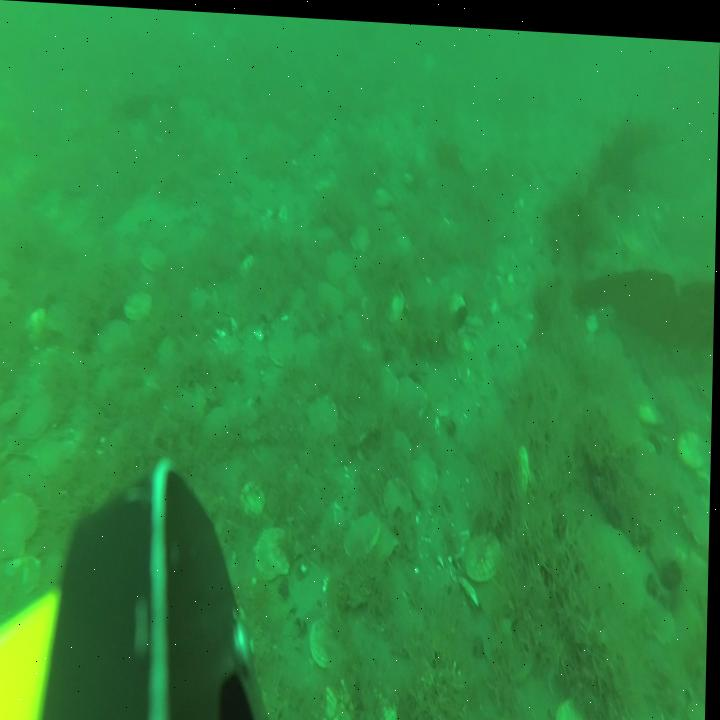scallop: (581, 508, 648, 616), (0, 496, 40, 555), (463, 524, 502, 579), (257, 528, 292, 582), (409, 447, 443, 502), (22, 395, 57, 446), (345, 507, 381, 556), (679, 420, 713, 464), (393, 372, 426, 417), (313, 618, 342, 669), (592, 319, 624, 362), (242, 477, 272, 517), (558, 690, 598, 720), (292, 323, 318, 368), (310, 390, 336, 435), (326, 239, 352, 281), (268, 323, 294, 365), (127, 289, 156, 320), (387, 276, 405, 321), (0, 396, 24, 428), (143, 242, 167, 274), (352, 220, 373, 252)
